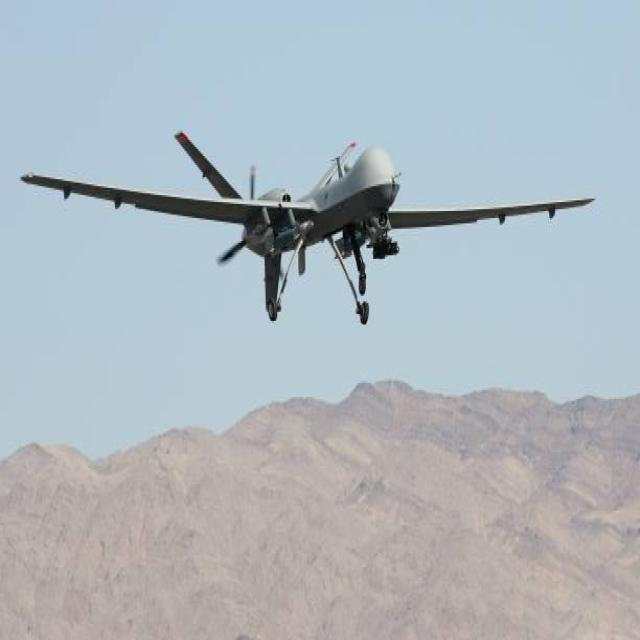iha: (21, 132, 598, 328)
